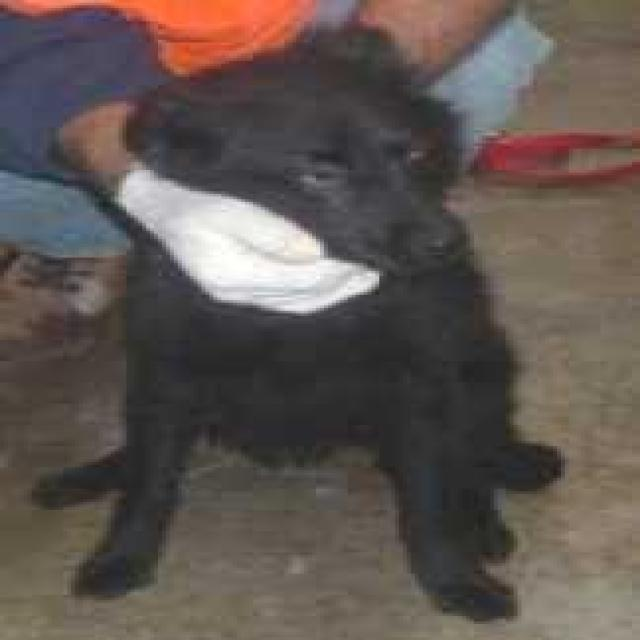Dogs: (28, 24, 561, 621)
